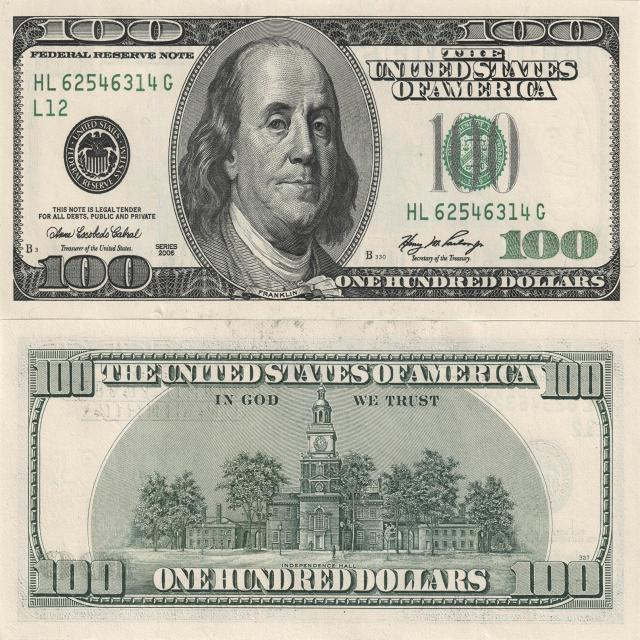100-Back: (0, 322, 640, 640)
100-Front: (0, 0, 640, 320)
